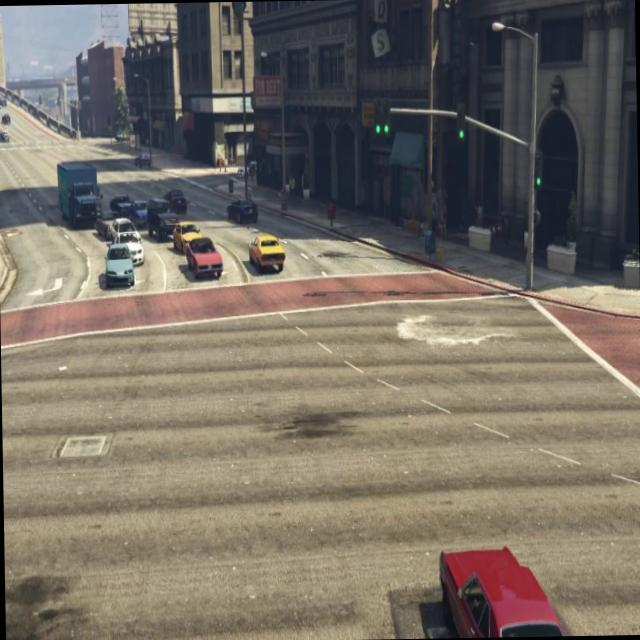Green-Signal: (366, 90, 398, 163), (448, 91, 472, 160), (528, 144, 549, 212)
